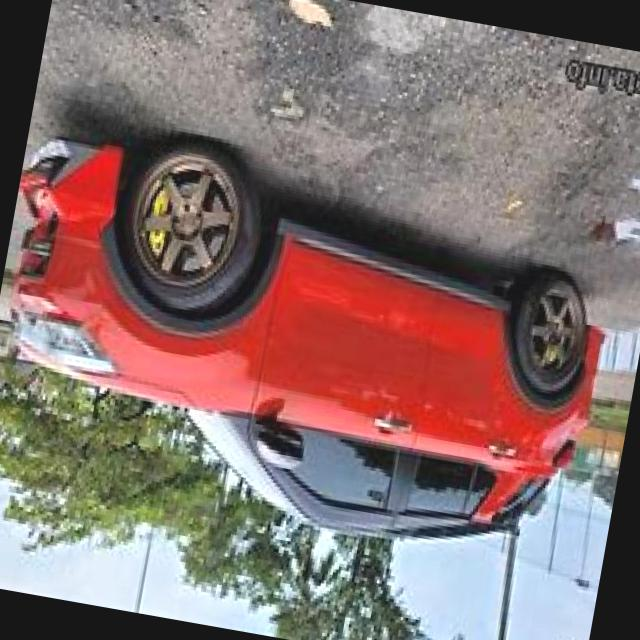PeroduaAtiva: (0, 112, 630, 577)
